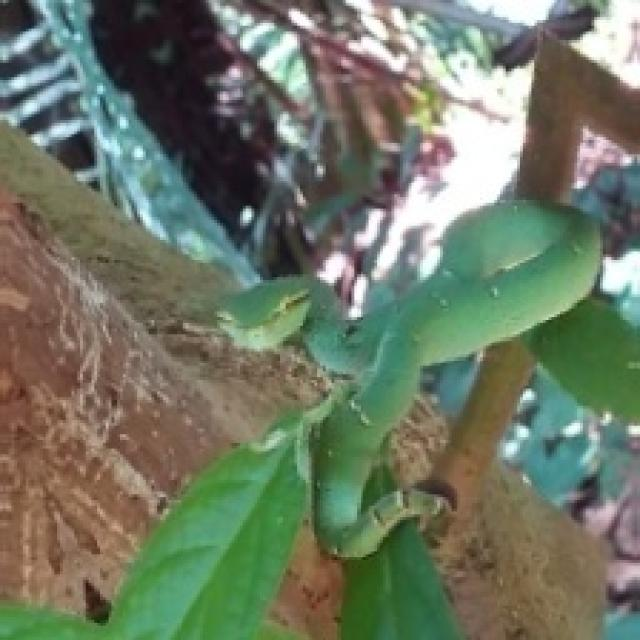north ph temple pitviper: (220, 201, 601, 557)
